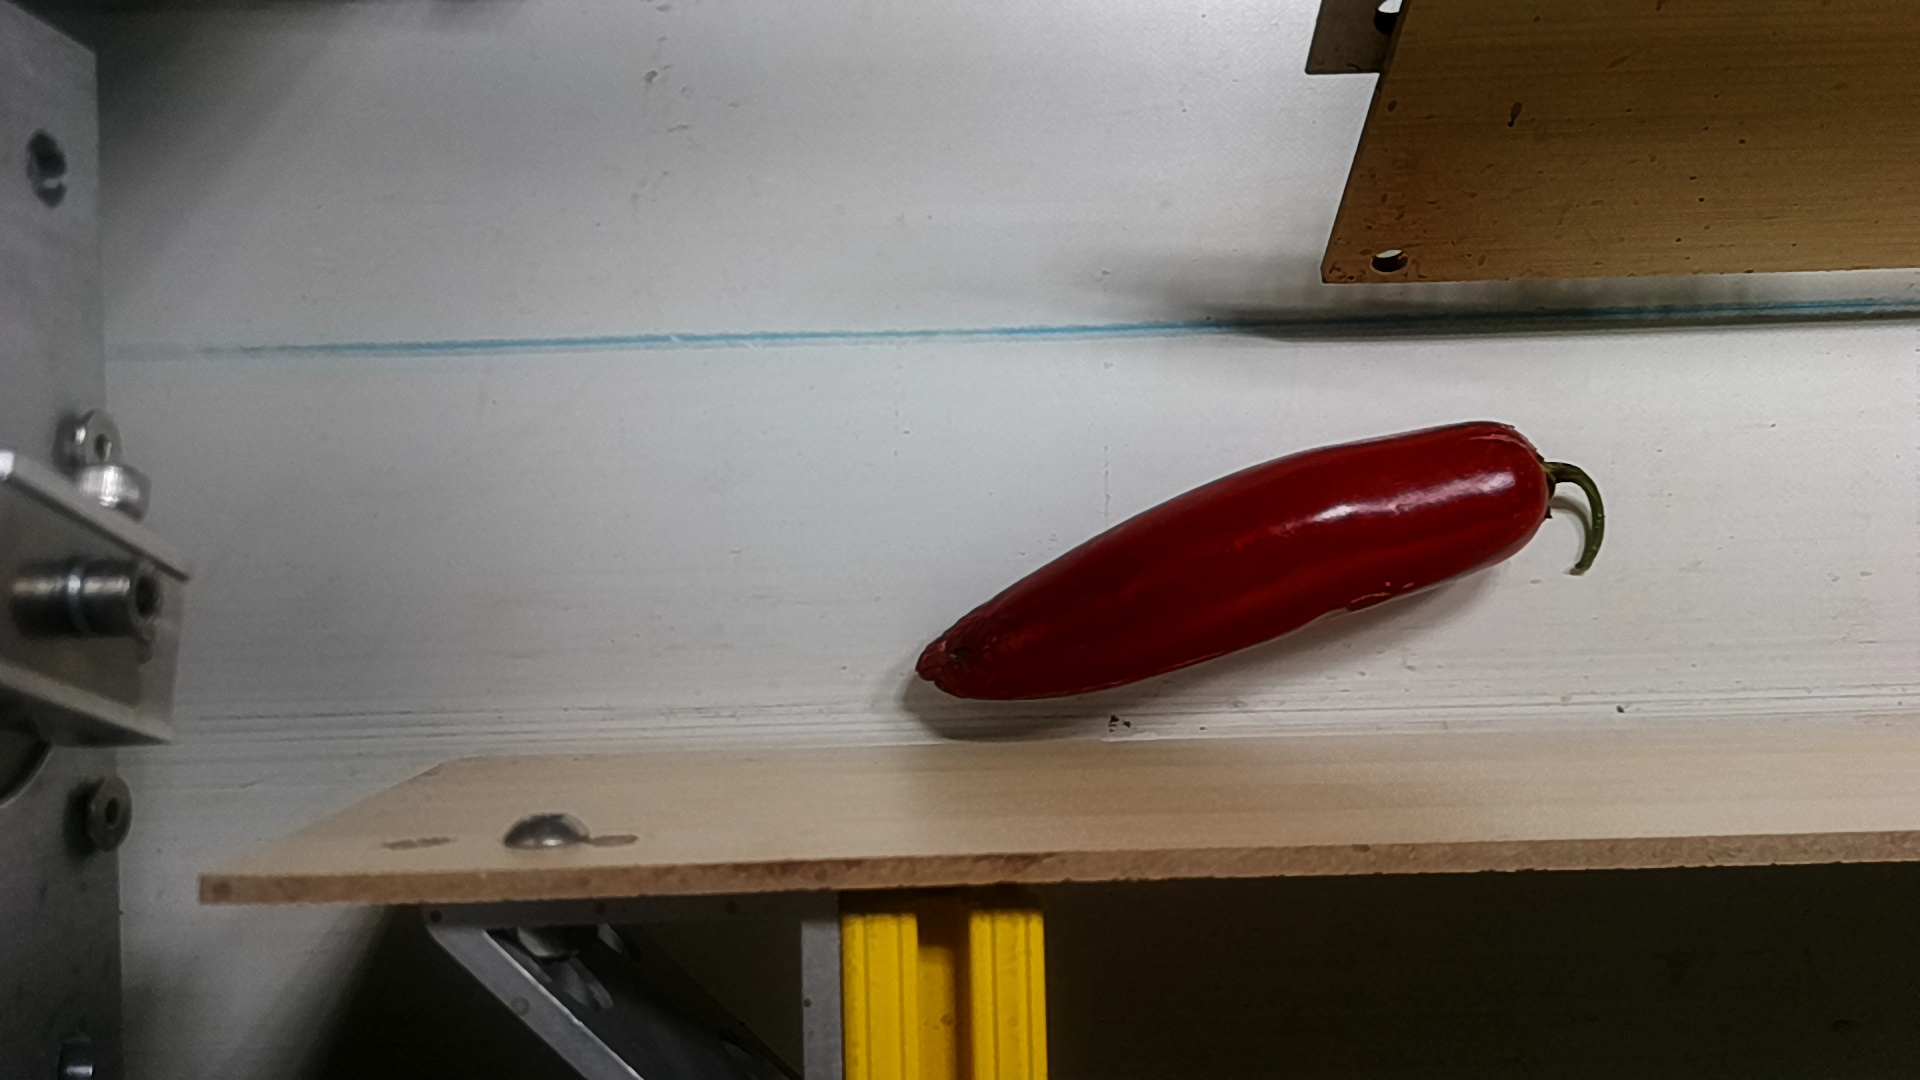Cut Point: (1486, 417, 1580, 551)
